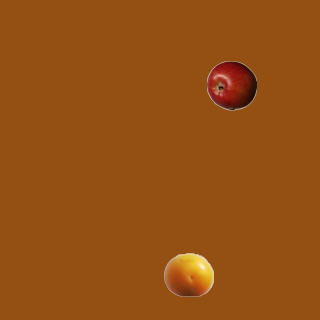Apple Braeburn: (206, 60, 256, 110)
Cherry Wax Yellow: (163, 249, 213, 299)
